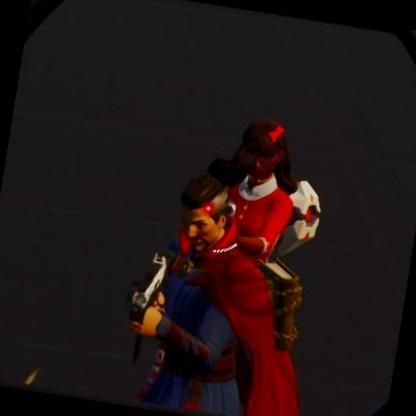person: (109, 180, 276, 416), (202, 122, 324, 261)
